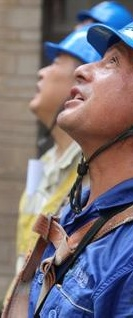hard-hat: (43, 23, 103, 63)
